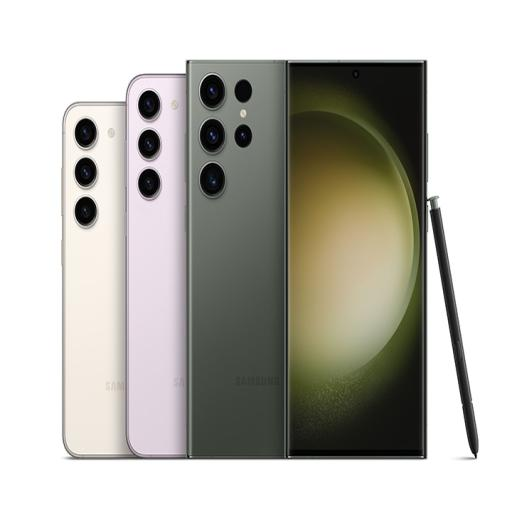phone: (188, 58, 286, 462)
